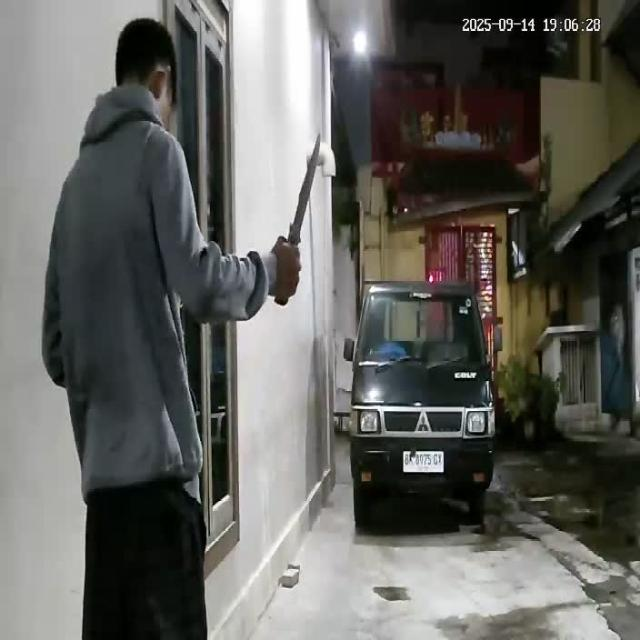senjata_tajam: (285, 130, 323, 249)
